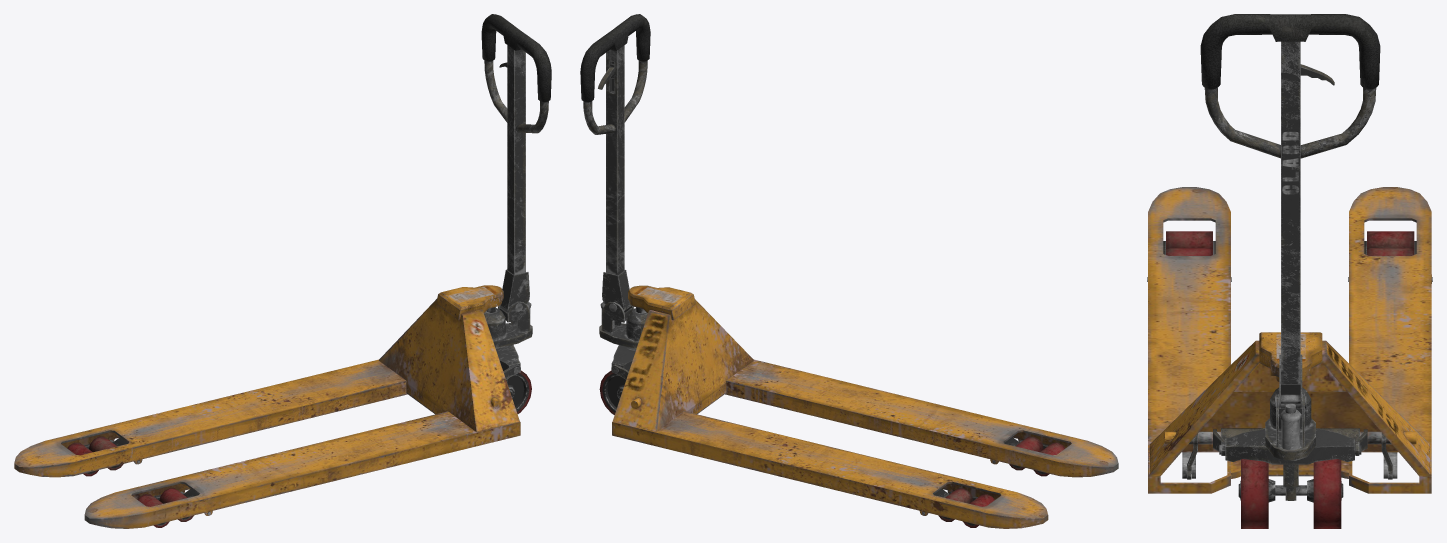
The model's file is pallet_truck.glb.
3 views of the same model, side by side, from view 1: azimuth 30°, elevation 25°; view 2: azimuth 150°, elevation 25°; view 3: azimuth 270°, elevation 25° (orthographic). The views are drawn at different scales.
Parts seen in each view (by area): view 1: LOW; view 2: LOW; view 3: LOW.
Part boxes in pixels (x1,y1,x2,y2): LOW: (14,14,551,528); LOW: (580,14,1118,528); LOW: (1147,14,1432,528).
Size of the model in its own units: 473 by 349 by 171.
1 material, 1 textured.
